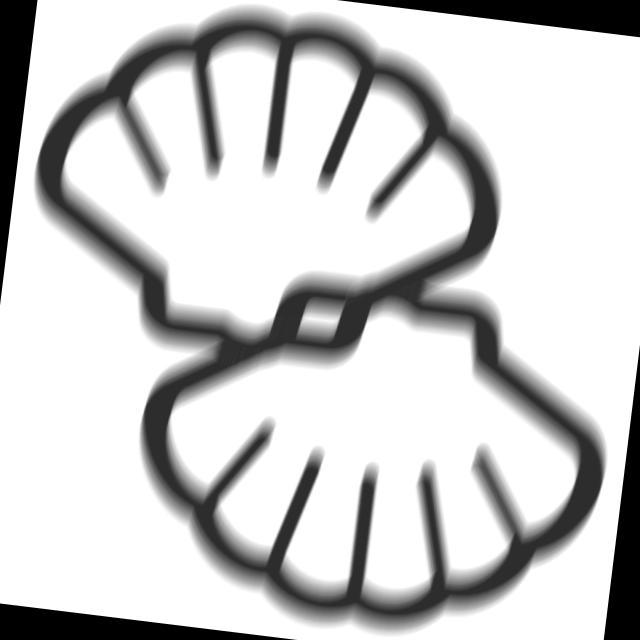shell: (102, 244, 636, 640), (2, 1, 533, 392)
